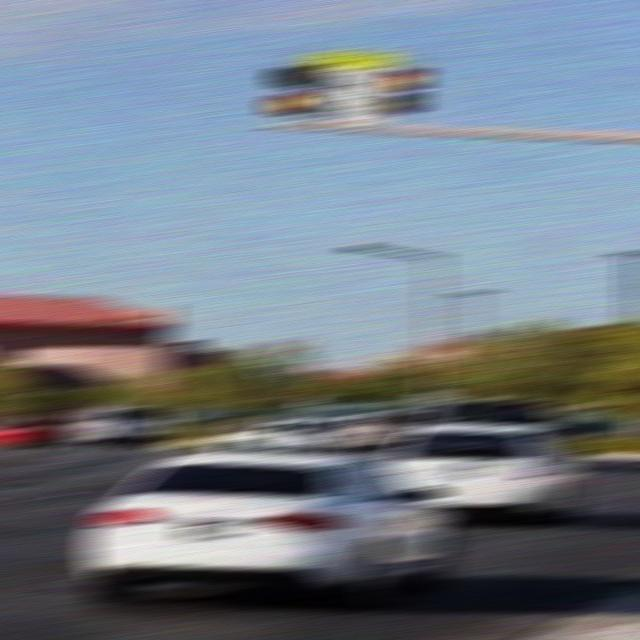speedLimit15: (308, 59, 395, 132)
